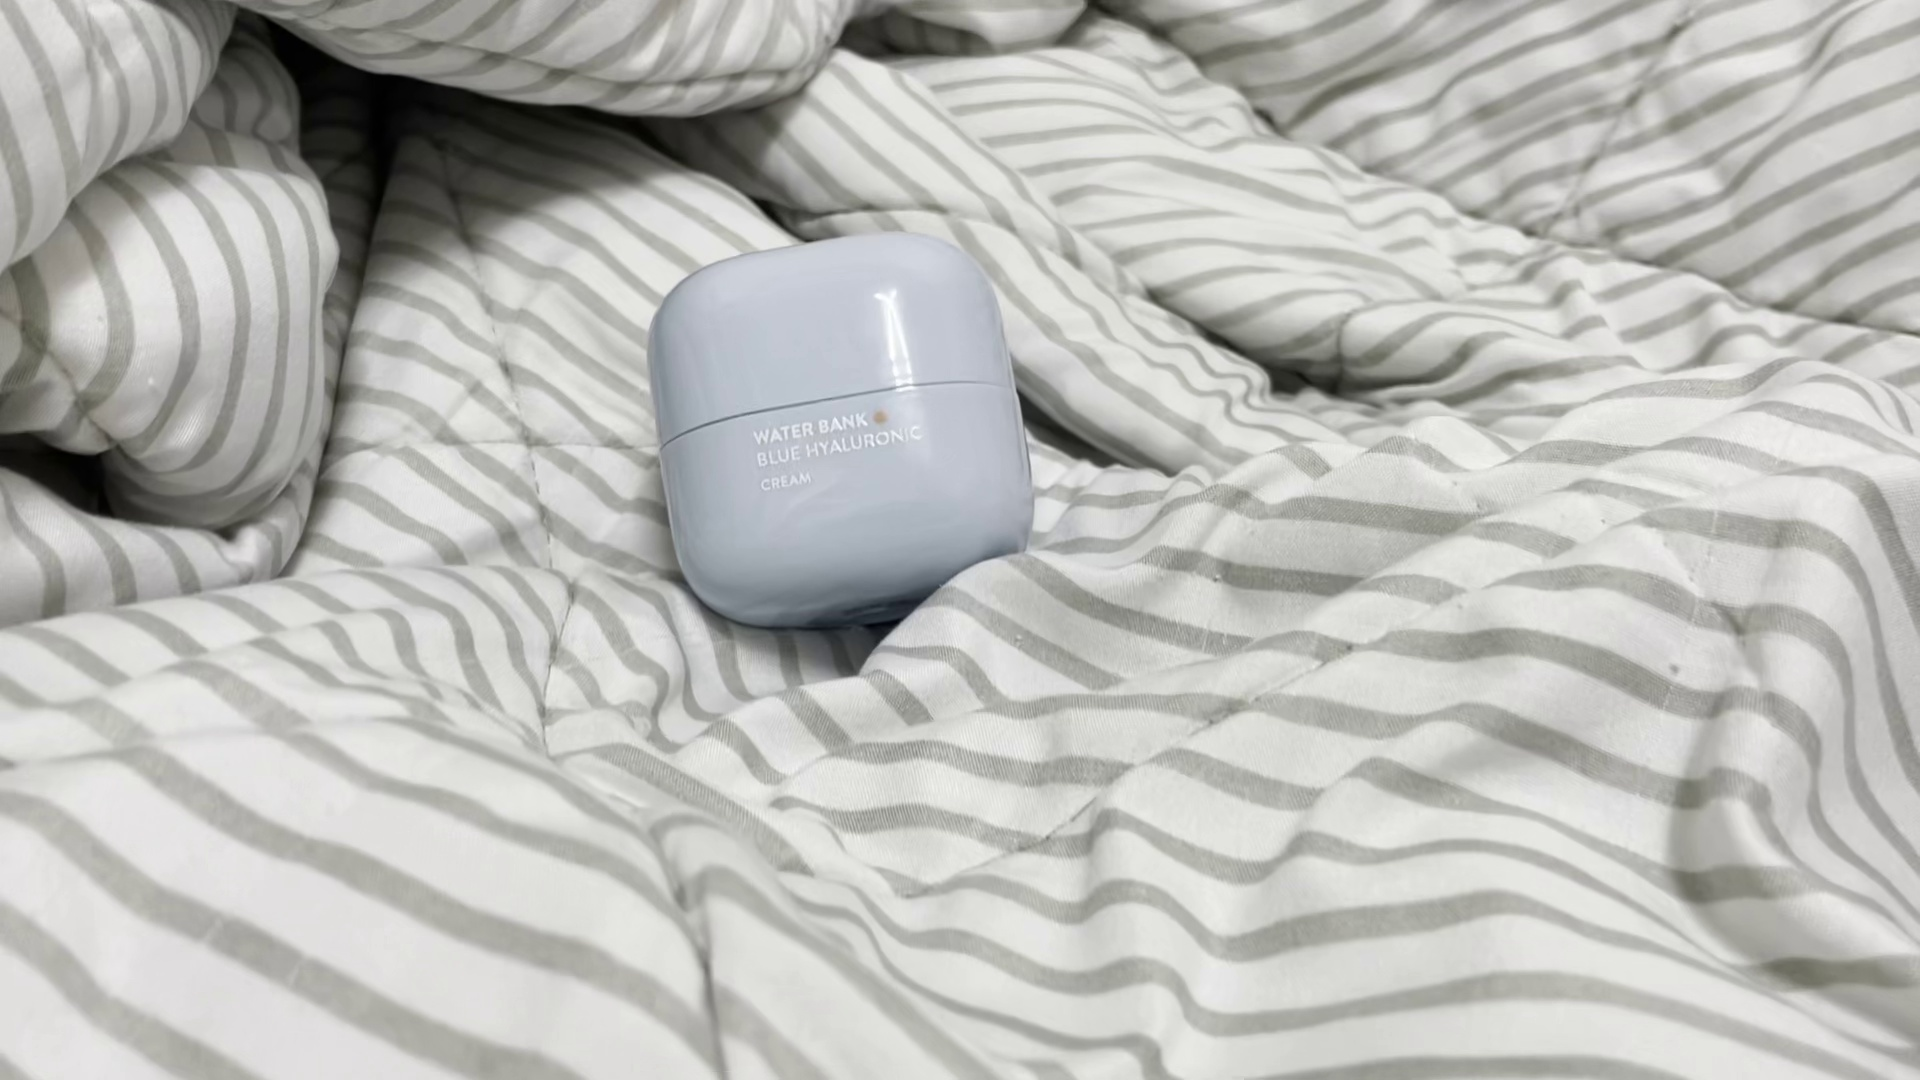cream: (640, 237, 1036, 621)
